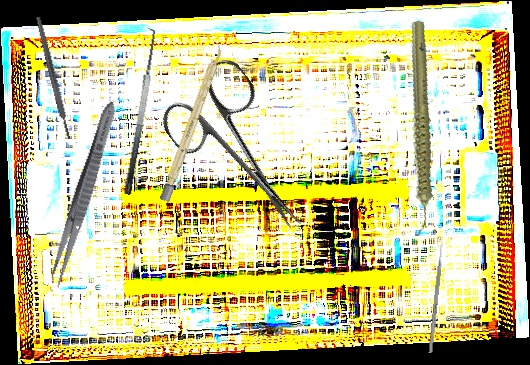Dressing Forceps: (46, 99, 121, 290)
Handpiece: (367, 17, 470, 239)
Iris Scissors: (150, 52, 338, 256)
Pusher: (428, 236, 445, 354)
Scalpel Handle: (159, 43, 226, 203), (34, 16, 73, 140)
Spatula Surgical: (109, 26, 164, 196)
